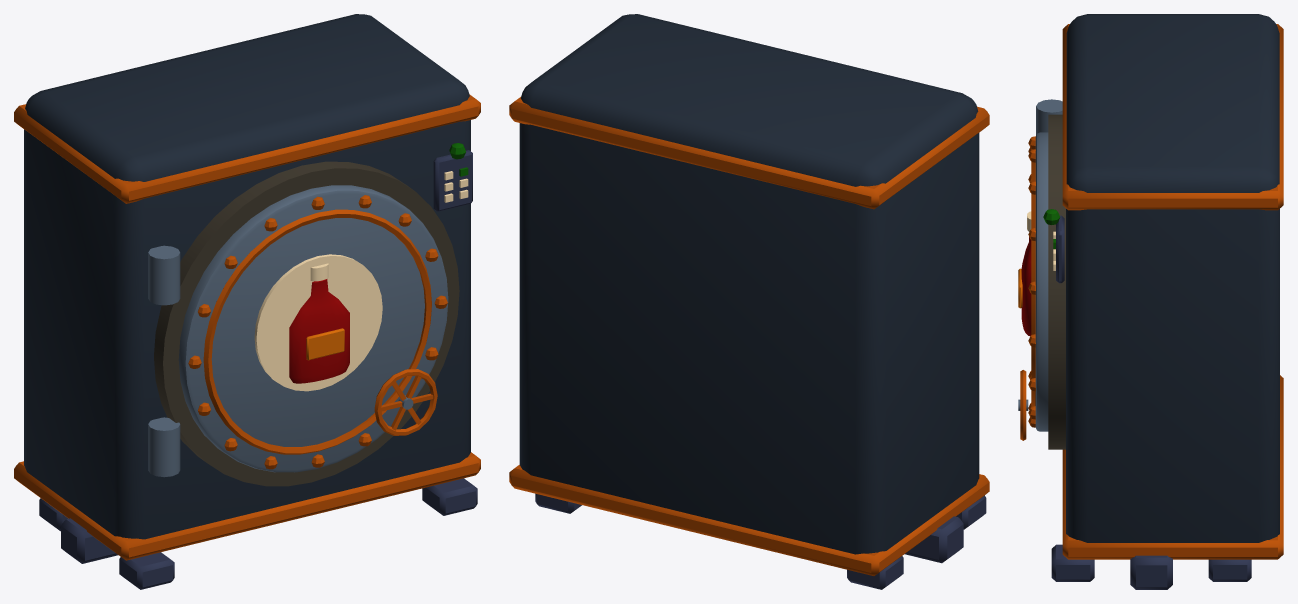
File: SauceVault.obj
The picture shows the model from 3 angles, left to right: view 1: azimuth 30°, elevation 25°; view 2: azimuth 150°, elevation 25°; view 3: azimuth 270°, elevation 25°; orthographic projection. The views are drawn at different scales.
Parts seen in each view (by area): view 1: SauceVault; view 2: SauceVault; view 3: SauceVault.
Boxes of the visible parts, left/top/right/bottom form: SauceVault: left=14, top=14, right=480, bottom=589; SauceVault: left=509, top=14, right=989, bottom=589; SauceVault: left=1018, top=14, right=1283, bottom=589.
Bounding box in the file's own units: 6 × 6.36 × 3.72.
